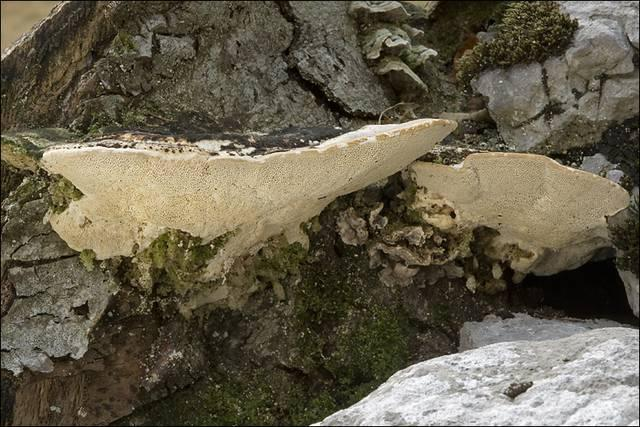Non-edible Mushroom: (38, 113, 459, 309), (401, 142, 640, 292)
